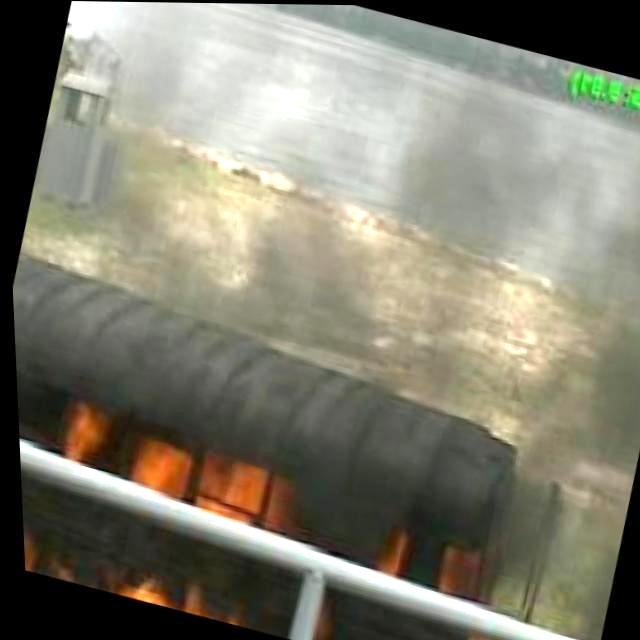fire: (17, 499, 263, 628), (76, 428, 304, 544), (359, 518, 485, 598), (13, 366, 121, 454)
